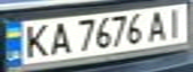6: (124, 11, 148, 45), (93, 14, 115, 50)
7: (72, 16, 96, 52), (109, 12, 130, 47)
A: (45, 19, 72, 56), (145, 8, 172, 42)
I: (160, 6, 190, 38)
K: (18, 20, 51, 60)
